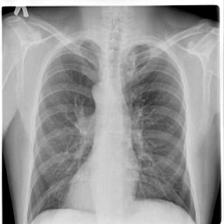tuberculosis: (14, 31, 210, 224)
